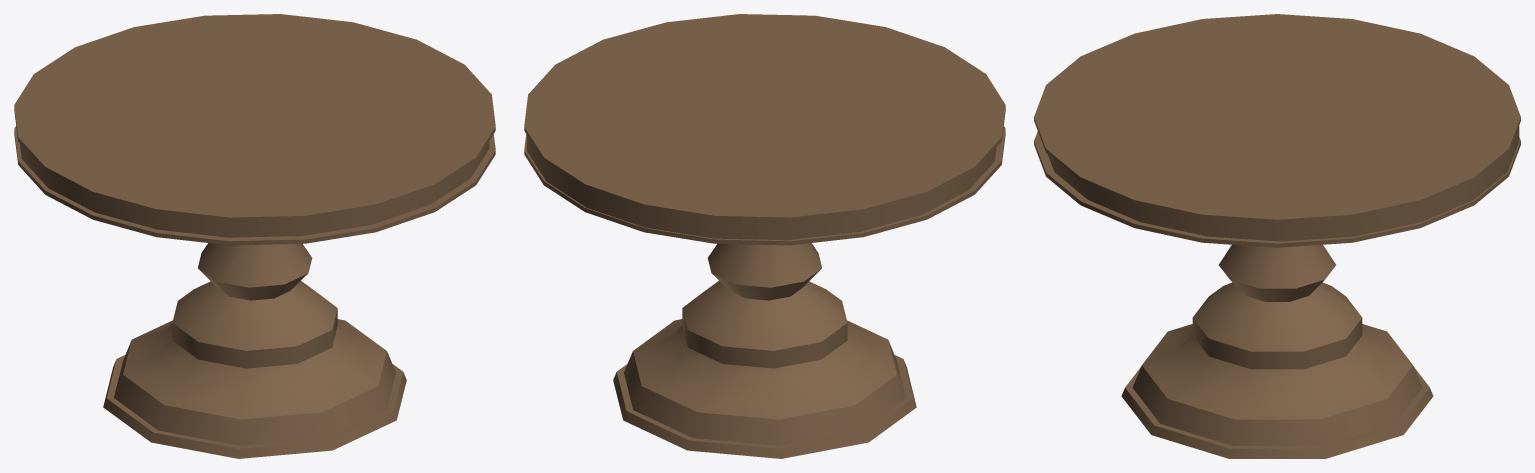
Rendered from pk_tround_oak.glb.
3 renders of one model, left to right at view 1: azimuth 30°, elevation 25°; view 2: azimuth 150°, elevation 25°; view 3: azimuth 270°, elevation 25°, orthographic.
Visible parts, largest first — view 1: pk_tround_oak; view 2: pk_tround_oak; view 3: pk_tround_oak.
Part boxes in pixels (box(x1,y1,x2,y2)): pk_tround_oak: box(14, 14, 495, 458); pk_tround_oak: box(524, 14, 1005, 458); pk_tround_oak: box(1034, 14, 1520, 458).
Size of the model in its own units: 1.2 by 0.76 by 1.2.
Materials: 1 (1 with a texture image).
